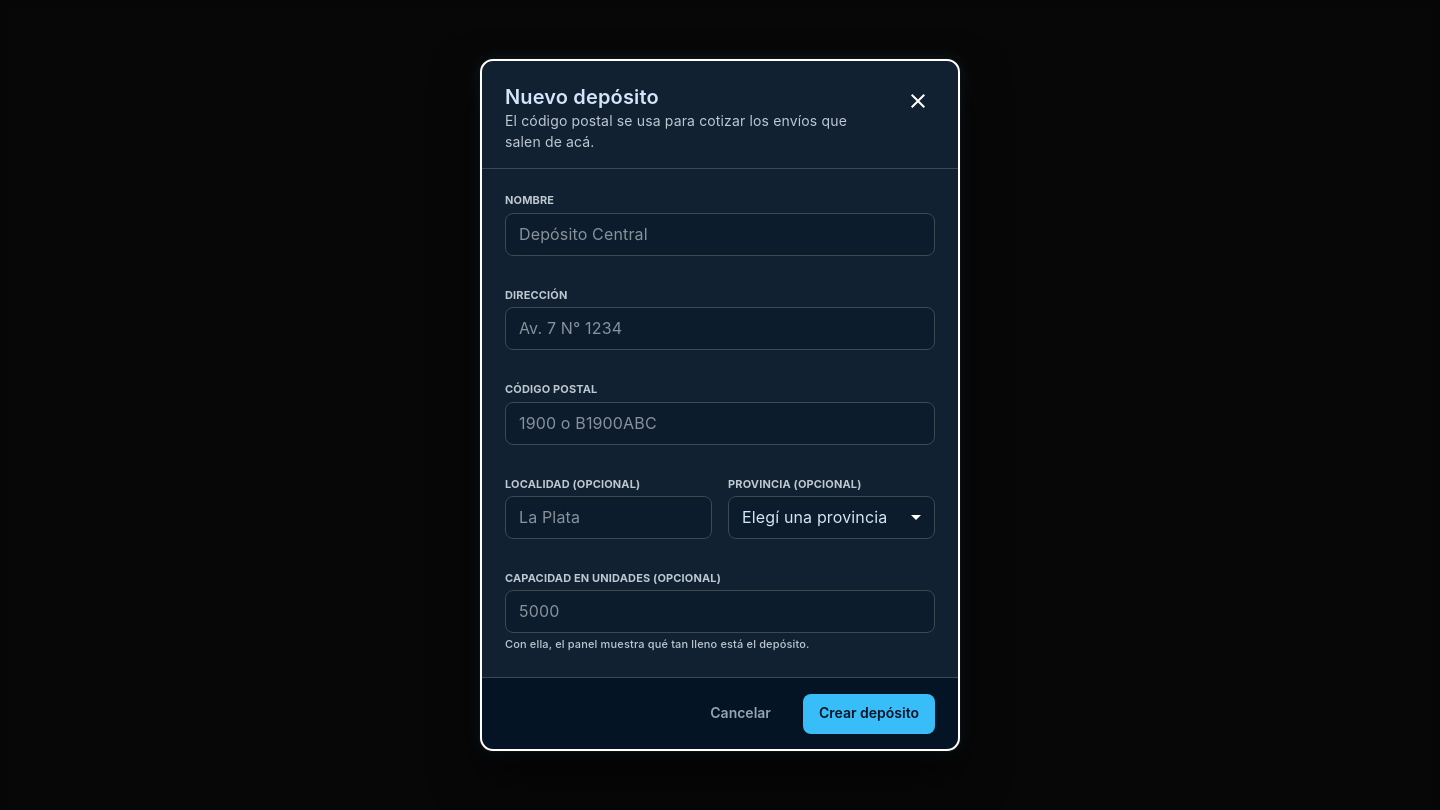
Test: WarehouseFormModal › the city and the province › offers the provinces of the API plus none
Step 1. Press the mouse on the dropdown labelled "Elegí una provincia" → (815, 517), box [742,507,887,527]
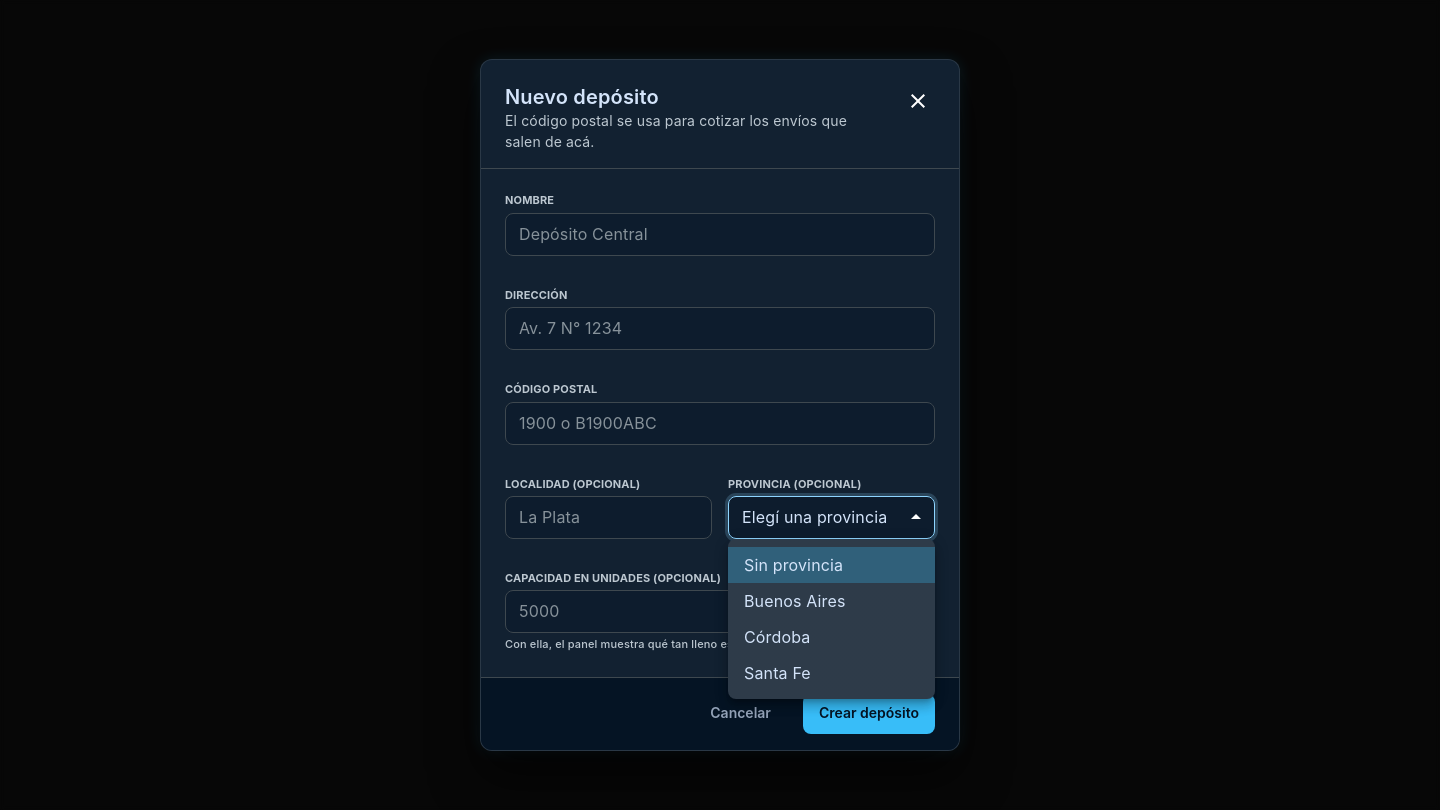
Expected: the options read "Sin provincia", "Buenos Aires", "Córdoba", "Santa Fe", in this order, [728,547,935,583]; [744,591,846,611]; [744,627,810,647]; [744,663,811,683]
